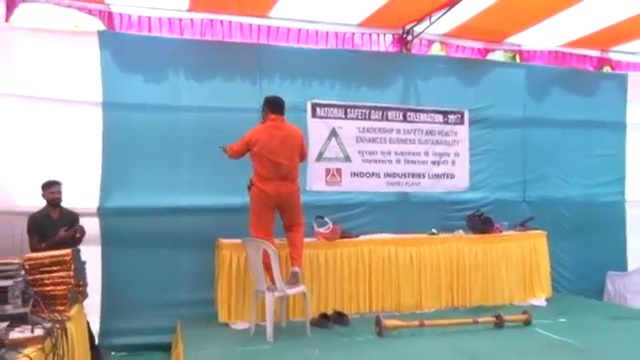helmet_off: (260, 94, 287, 126), (39, 178, 63, 209)
person: (228, 92, 310, 281), (23, 179, 89, 297)
